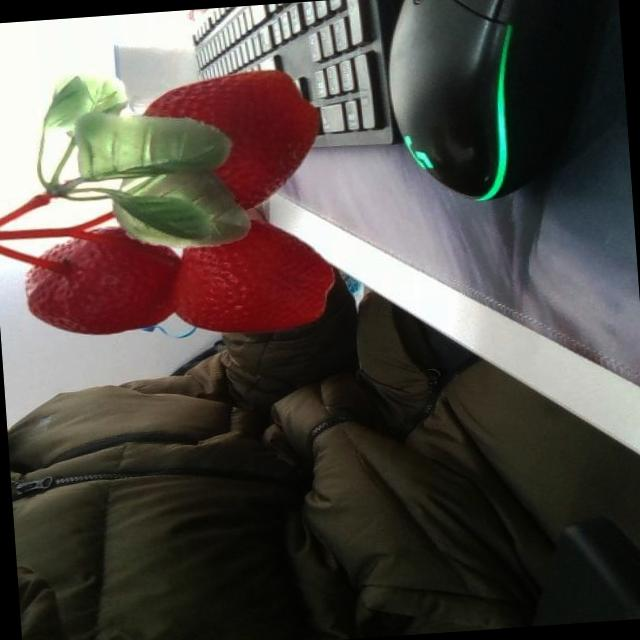strawberry: (125, 64, 326, 214), (162, 212, 338, 338), (10, 221, 182, 339)
